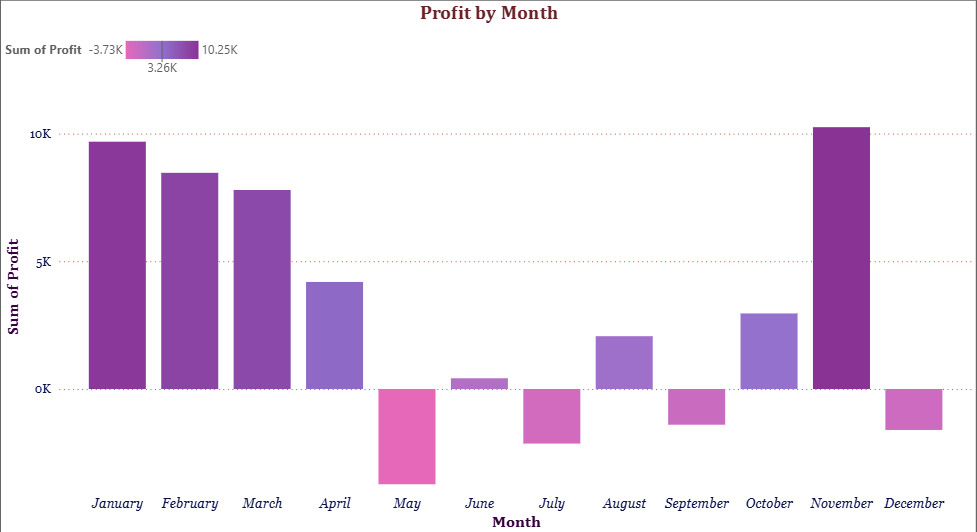

This screenshot's page, from the dashboard's own definition file:
{"tool":"powerbi","page":{"name":"Page 1","canvas":[1280,720],"ordinal":0},"visuals":[{"type":"columnChart","title":"Profit by Month","fields":{"Y":["Sum(Details.Profit)"],"Category":["Orders.Order Date.Variation.Date Hierarchy.Month"]},"box":[104.3,81.4,1071.4,587.1],"z":0}]}

Visuals, with their boxes on the page's 1280x720 design canvas (x1, y1, x2, y2). These are canvas units, not pixel positions in the 977x532 screenshot, which may show the page scaled, cropped or inside an application window:
"Profit by Month" columnChart: box(104, 81, 1176, 668)
